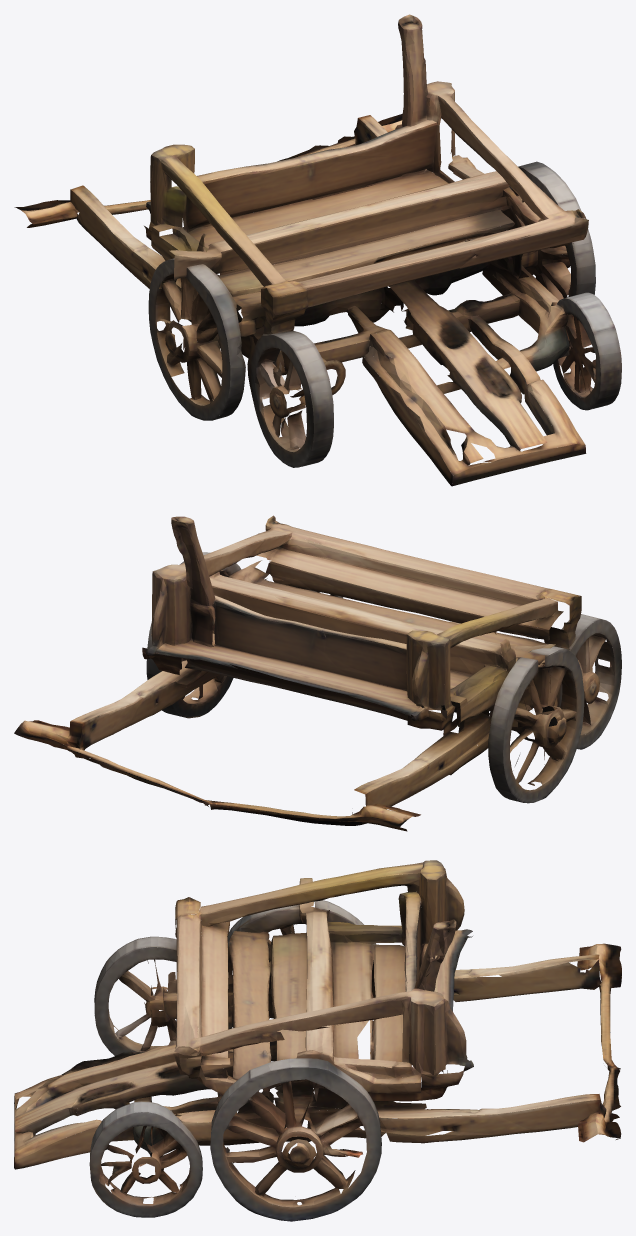
The model's file is prop_cart.glb.
3 views of the same model, one above another, from view 1: azimuth 30°, elevation 25°; view 2: azimuth 150°, elevation 25°; view 3: azimuth 270°, elevation 25° (orthographic).
Visible parts, largest first — view 1: world; view 2: world; view 3: world.
Part boxes in pixels (<box>): world: <box>14,14,621,486</box>; world: <box>14,515,621,831</box>; world: <box>14,860,621,1221</box>.
Size of the model in its own units: 0.7619 by 0.509 by 1.
1 material, 1 textured.
